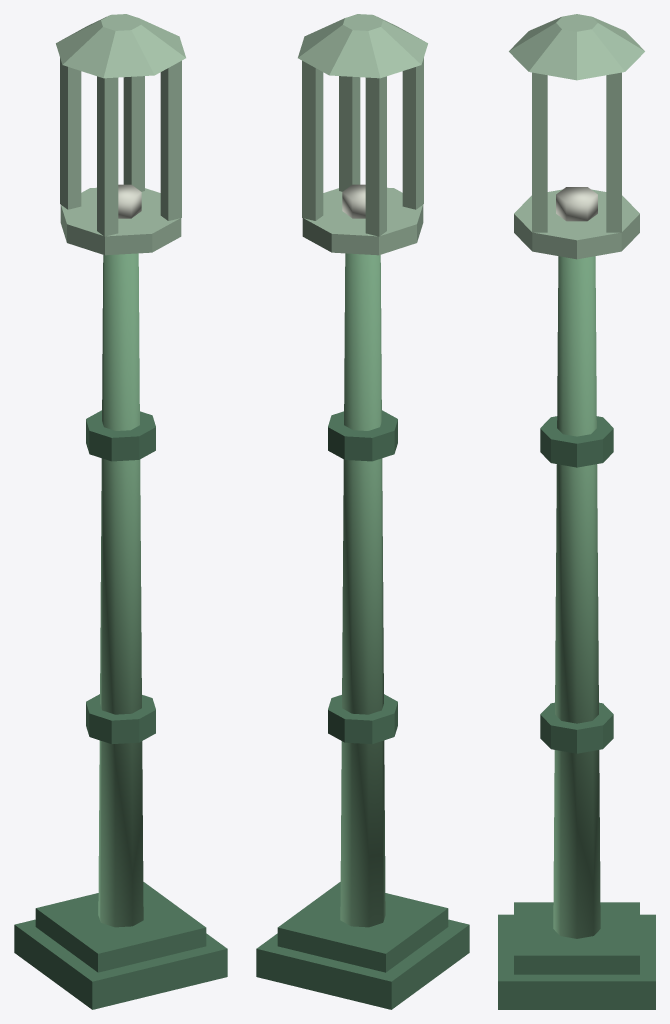
File: green_dungeon_lamp_v0.glb
3 views of the same model, side by side, from view 1: azimuth 30°, elevation 25°; view 2: azimuth 150°, elevation 25°; view 3: azimuth 270°, elevation 25° (orthographic).
Visible parts, largest first — view 1: green_dungeon_lamp_v0; view 2: green_dungeon_lamp_v0; view 3: green_dungeon_lamp_v0.
Part boxes in pixels (x1,y1,x2,y2): green_dungeon_lamp_v0: [14, 14, 227, 1009]; green_dungeon_lamp_v0: [256, 14, 469, 1009]; green_dungeon_lamp_v0: [498, 14, 655, 1009].
Bounding box in the file's own units: 0.3 × 2 × 0.3.
